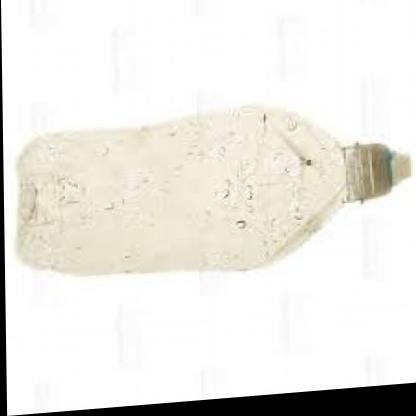trash: (18, 109, 344, 272)
